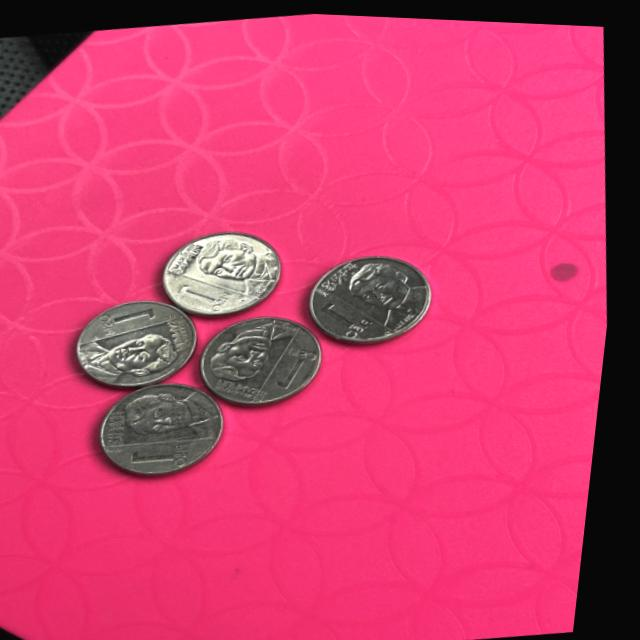1_New_Front: (318, 287, 390, 338), (266, 336, 327, 394), (98, 293, 172, 338), (130, 429, 205, 472), (176, 276, 240, 316)
